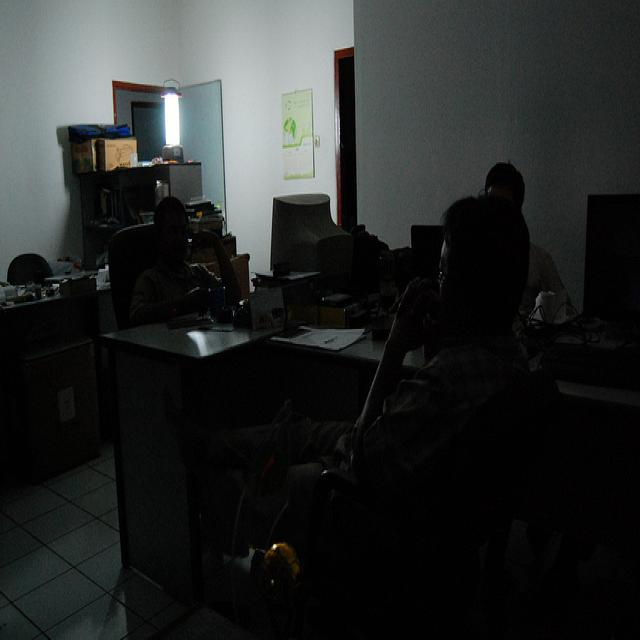People: (423, 205, 544, 462), (141, 174, 222, 335), (474, 143, 555, 255)
